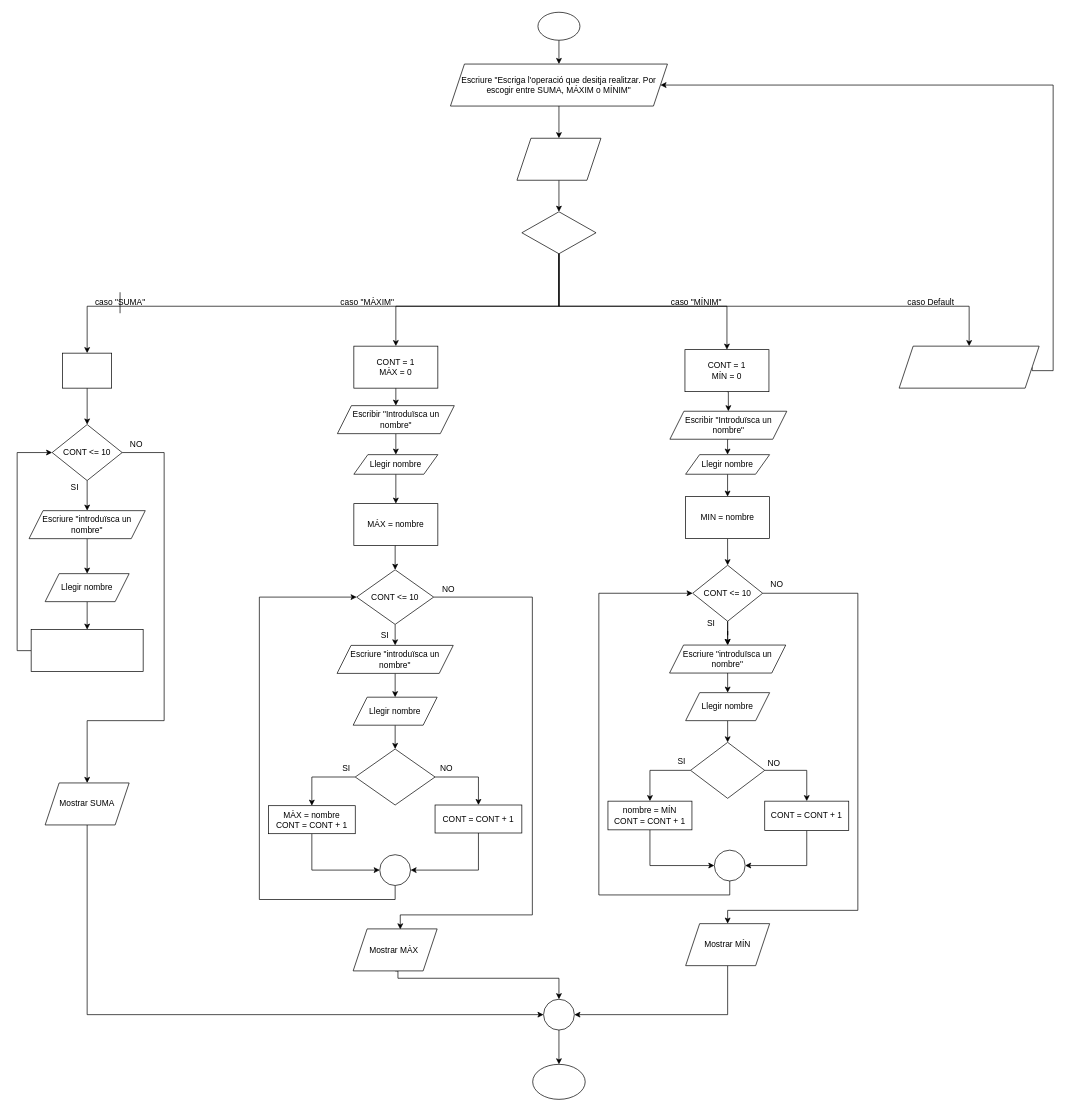
The diagram is 1071 pixels wide and 1112 high, and some of its shapes have lost their labels. Each missing label, with the centre of its shape:
CONT =1 SUMA=0: (x=87, y=370)
Escribir "ERROR. operación no reconocida.": (x=968, y=366)
Fi: (x=558, y=1081)
Inici: (x=558, y=26)
Llegir operació: (x=558, y=159)
nombre < MÍN: (x=727, y=770)
nombre > MÀX: (x=395, y=776)
operació: (x=558, y=232)
SUMA = SUMA + nombre CONT = CONT + 1: (x=86, y=650)
